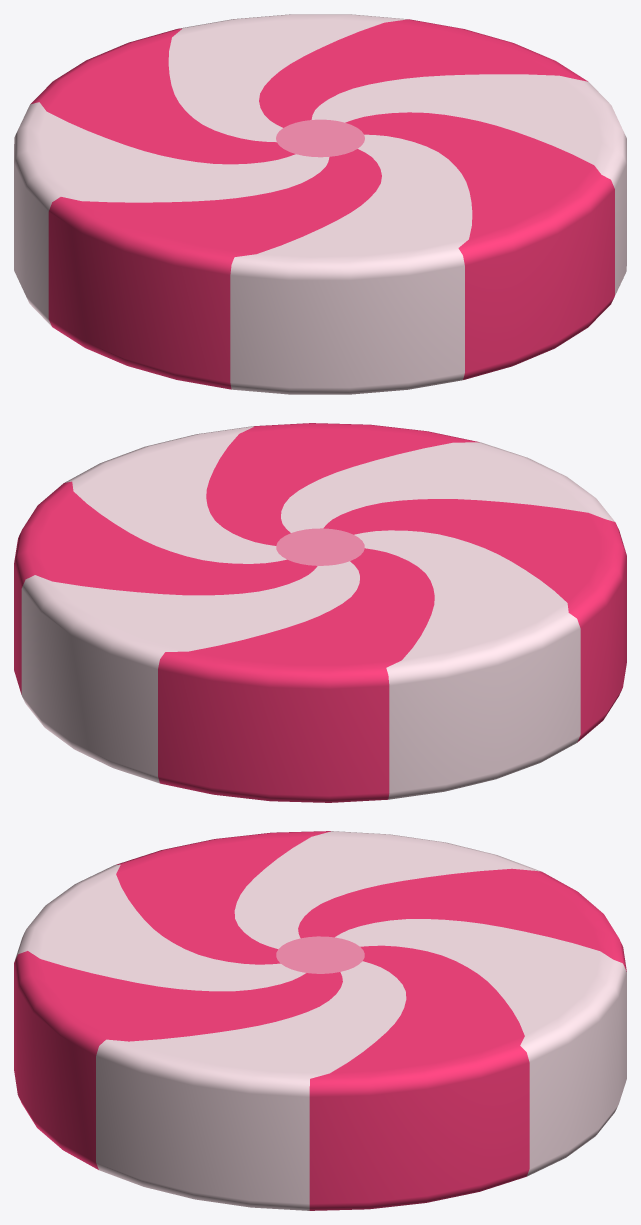
File: Store_8_Candy_2.glb
3 views of the same model, one above another, from view 1: azimuth 30°, elevation 25°; view 2: azimuth 150°, elevation 25°; view 3: azimuth 270°, elevation 25° (orthographic).
Parts seen in each view (by area): view 1: Store_8_Candy_2; view 2: Store_8_Candy_2; view 3: Store_8_Candy_2.
Part boxes in pixels (bbox=[...]): Store_8_Candy_2: bbox=[14, 14, 626, 394]; Store_8_Candy_2: bbox=[14, 423, 626, 802]; Store_8_Candy_2: bbox=[14, 831, 626, 1210].
Bounding box in the file's own units: 0.7176 × 0.17 × 0.7175.
Materials: 1 (1 with a texture image).
